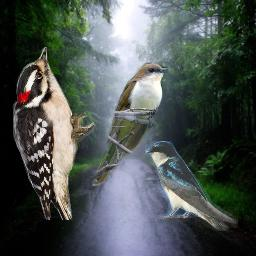Cuckoo: (91, 61, 168, 186)
Swallow: (145, 141, 238, 231)
Woodpecker: (13, 47, 94, 220)
